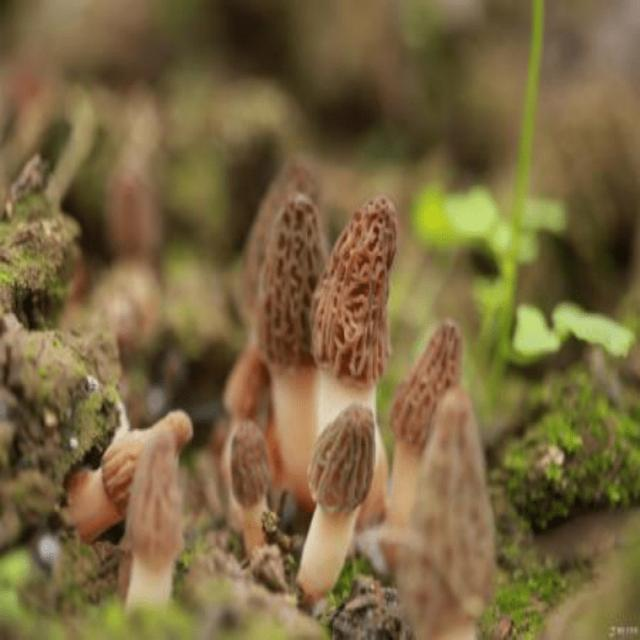Morchella esculenta: (311, 195, 396, 520), (408, 387, 492, 640), (259, 190, 325, 498), (304, 402, 374, 608), (392, 324, 462, 523), (126, 433, 182, 611), (227, 419, 268, 543)
